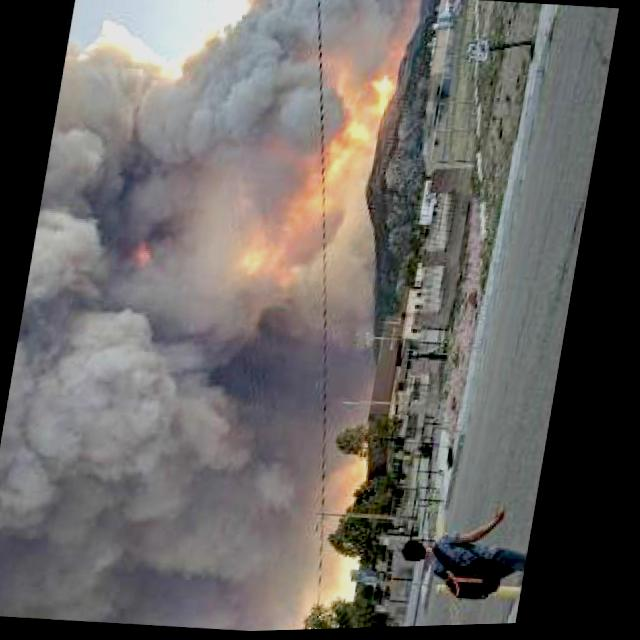helmet: (314, 49, 413, 219), (237, 187, 318, 294)
no_helmet: (0, 0, 418, 639)
